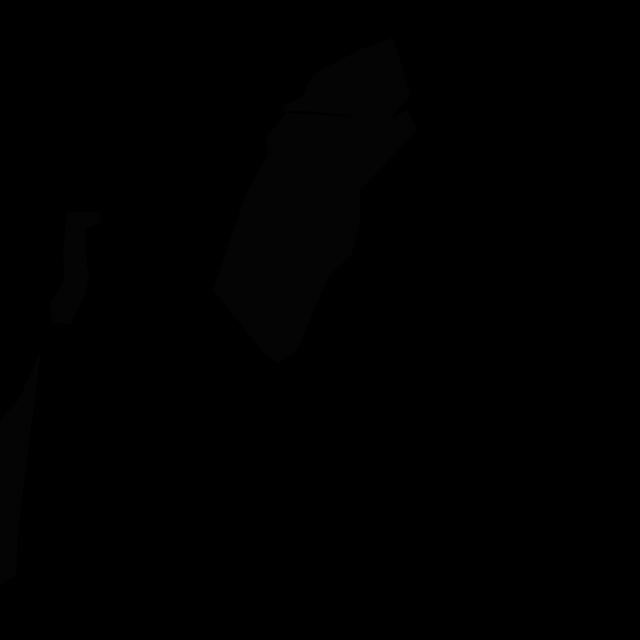soft_plastic: (213, 113, 361, 364), (282, 38, 417, 190), (0, 350, 41, 585), (50, 212, 100, 324)
